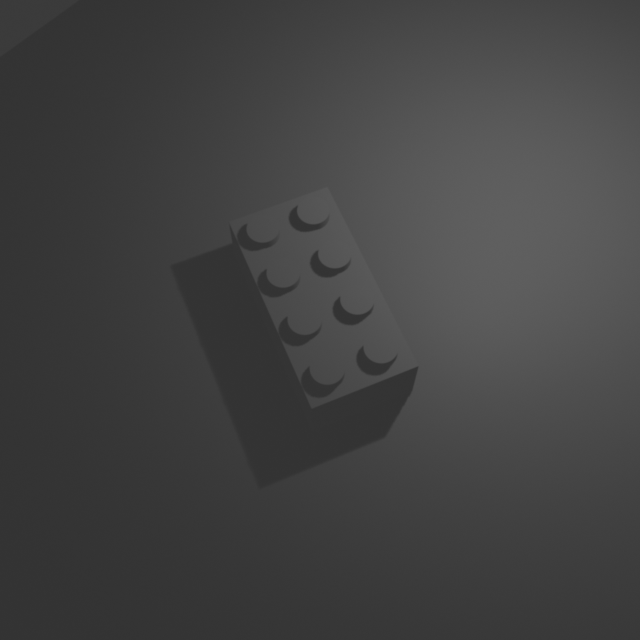lego_2x4: (228, 181, 420, 431)
